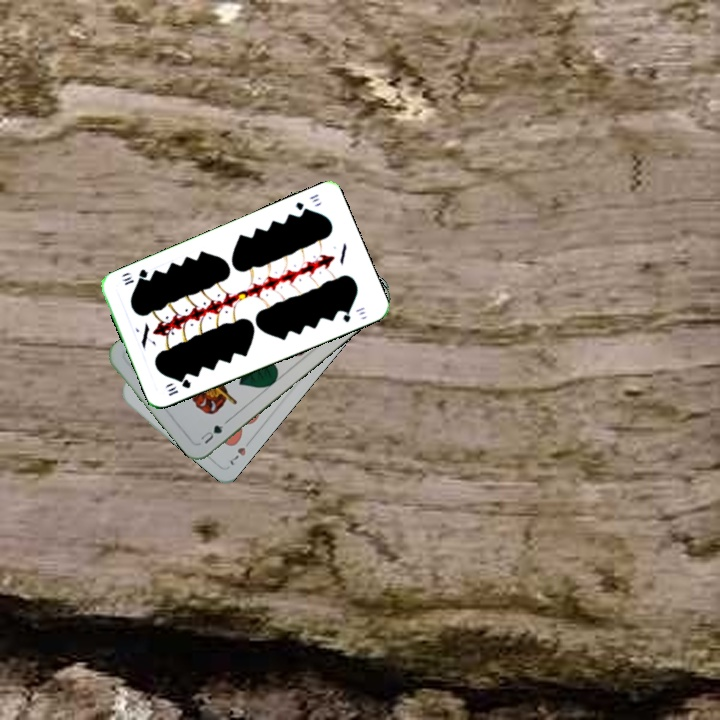G10: (291, 190, 322, 216), (164, 375, 193, 398)
GU: (196, 417, 230, 447)
H7: (225, 443, 249, 468)
